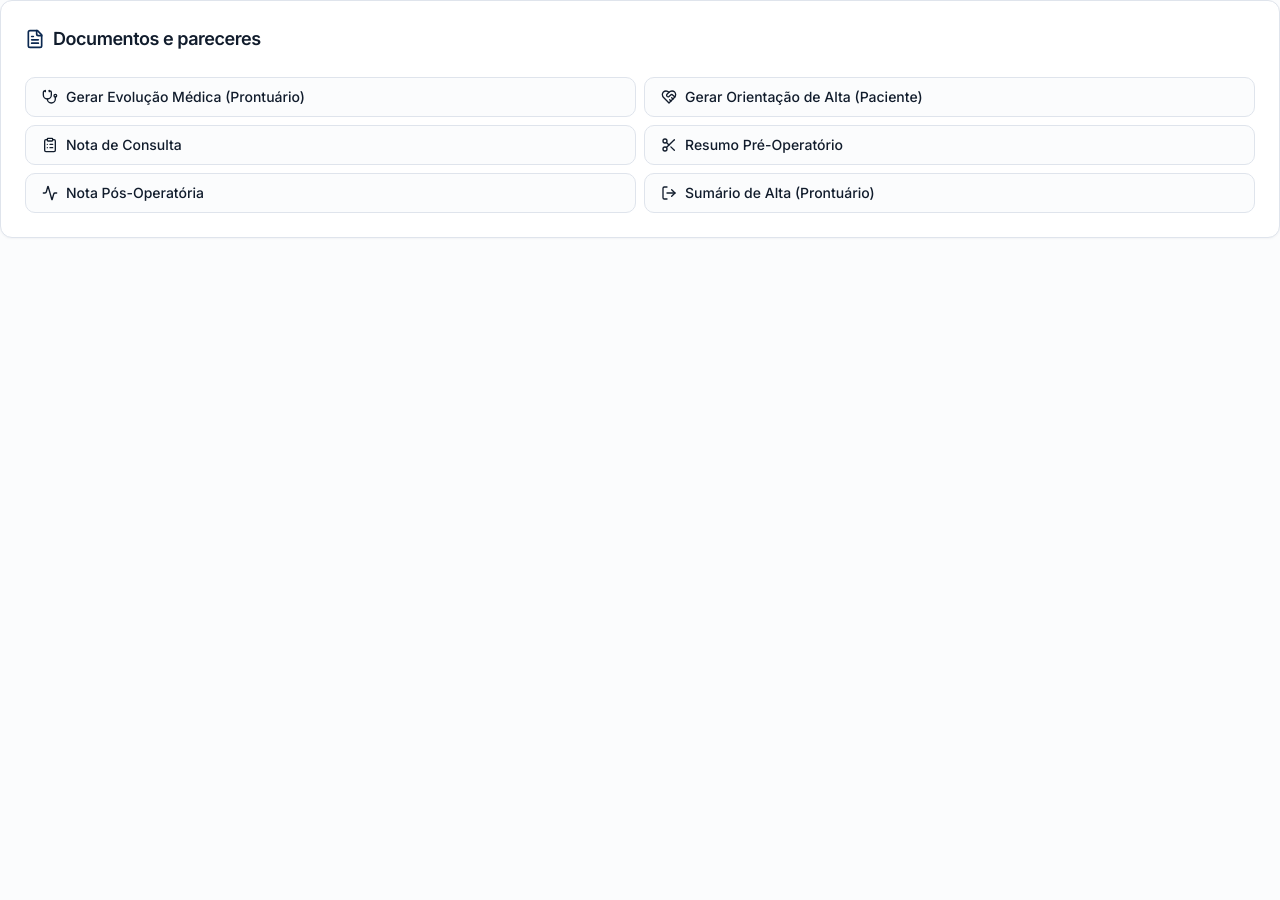
Scenario: DocumentGenerator › documento truncado E preliminar leva as duas ressalvas no texto
Later steps or results of the test are not shown.
Click the button "Nota de Consulta" at (124, 144), box [25, 125, 636, 165]
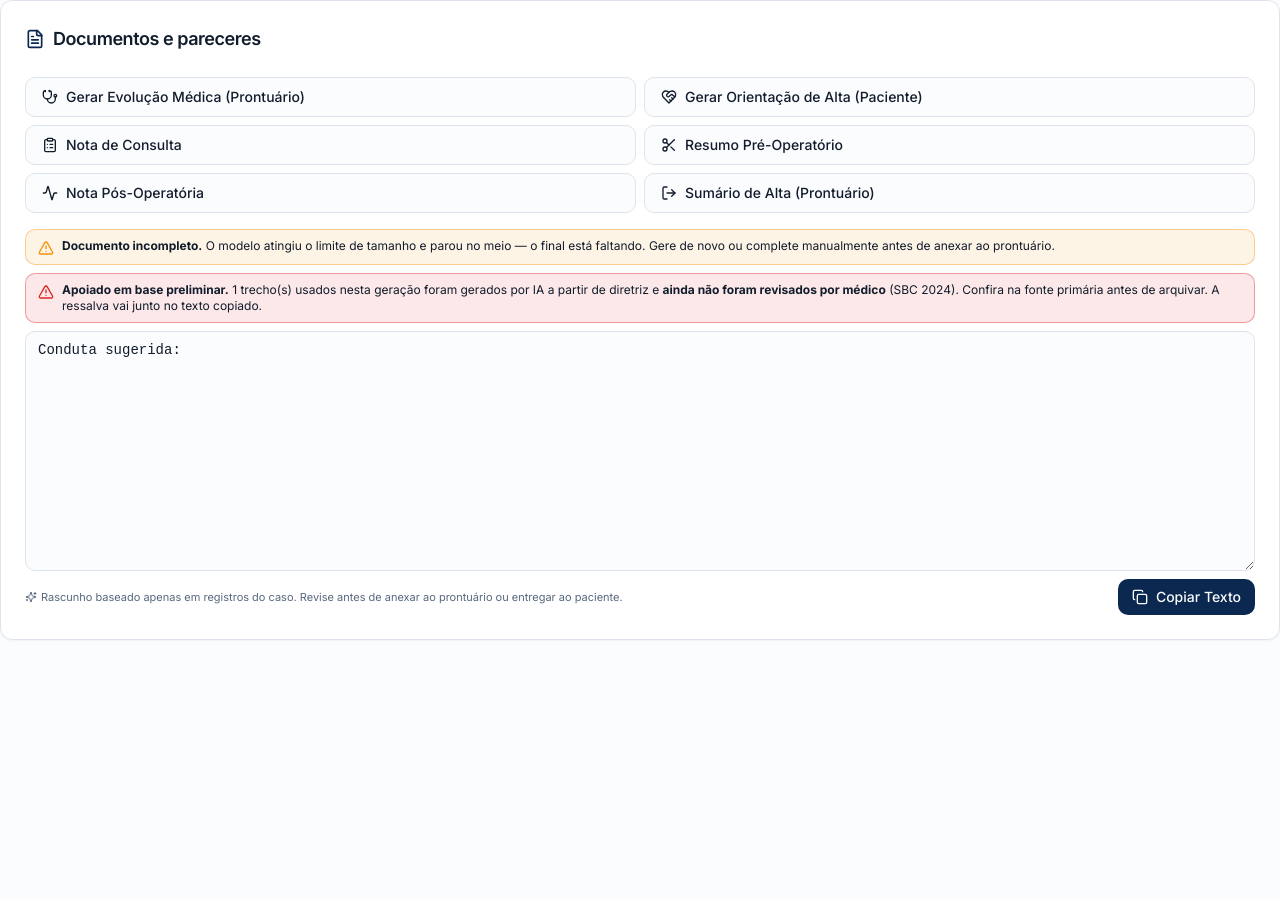
Now the text "Documento incompleto." is shown, box [62, 238, 202, 253]
